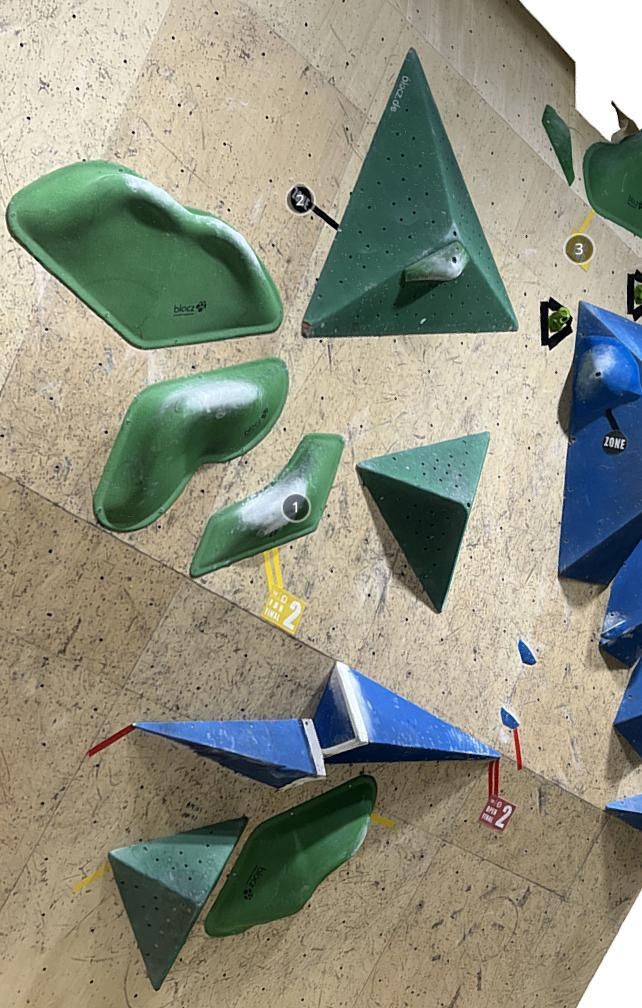hold: (6, 159, 283, 349), (92, 358, 288, 532), (205, 775, 377, 938), (559, 300, 642, 585), (189, 432, 346, 577), (312, 660, 502, 765), (133, 718, 326, 792), (583, 130, 642, 240), (599, 537, 642, 669), (574, 335, 642, 417), (613, 654, 642, 759), (405, 242, 471, 282), (542, 104, 574, 186), (540, 295, 573, 351), (606, 792, 642, 832), (627, 268, 642, 322), (518, 638, 537, 665), (500, 706, 520, 729)
volume: (301, 46, 518, 337), (107, 816, 249, 991), (355, 431, 490, 613)
